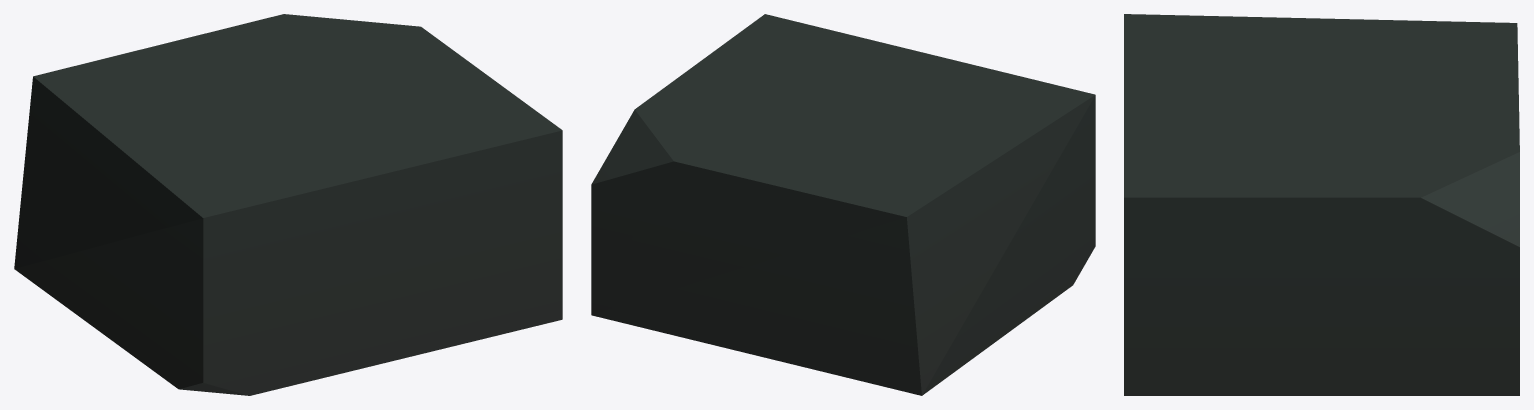
The model's file is SM_BrickRubble_03.fbx.
3 views of the same model, side by side, from view 1: azimuth 30°, elevation 25°; view 2: azimuth 150°, elevation 25°; view 3: azimuth 270°, elevation 25° (orthographic). The views are drawn at different scales.
Visible parts, largest first — view 1: SM_BrickRubble_03; view 2: SM_BrickRubble_03; view 3: SM_BrickRubble_03.
Part boxes in pixels (box(x1,y1,x2,y2)): SM_BrickRubble_03: box(14, 14, 562, 395); SM_BrickRubble_03: box(591, 14, 1095, 395); SM_BrickRubble_03: box(1124, 14, 1519, 395).
Bounding box in the file's own units: 67.93 × 34.16 × 61.85.
Materials: 1 (1 with a texture image).
